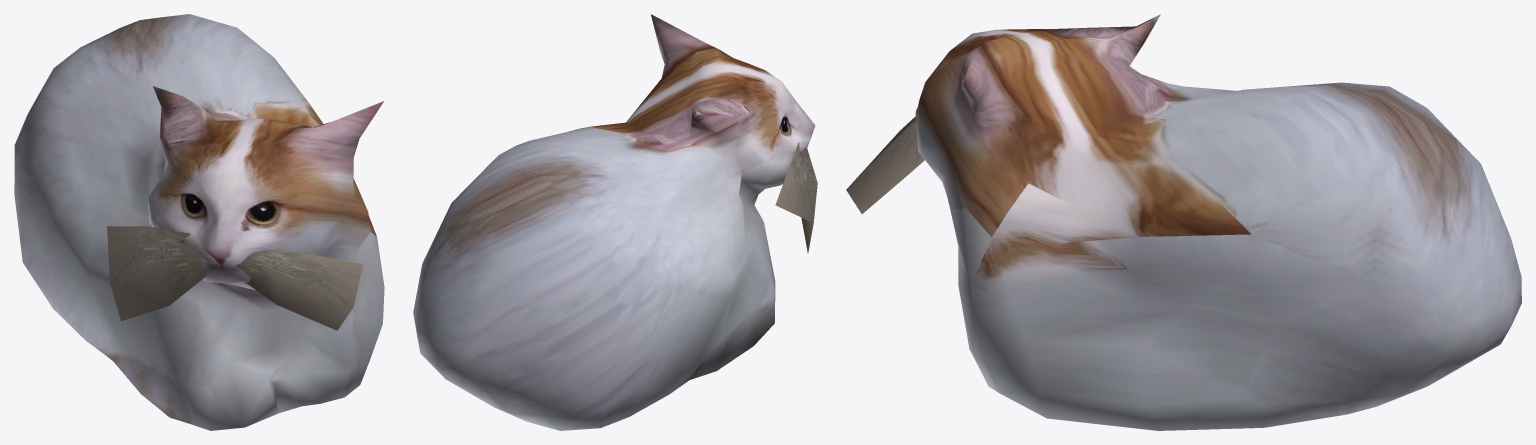
The model's file is wally.glb.
The picture shows the model from 3 angles, left to right: view 1: azimuth 30°, elevation 25°; view 2: azimuth 150°, elevation 25°; view 3: azimuth 270°, elevation 25°; orthographic projection. The views are drawn at different scales.
Visible parts, largest first — view 1: wally; view 2: wally; view 3: wally.
Part boxes in pixels (box(x1,y1,x2,y2)): wally: box(14, 14, 384, 430); wally: box(413, 14, 817, 430); wally: box(846, 14, 1521, 430).
Size of the model in its own units: 1.82 by 1.87 by 3.23.
Materials: 2 (2 with a texture image).
